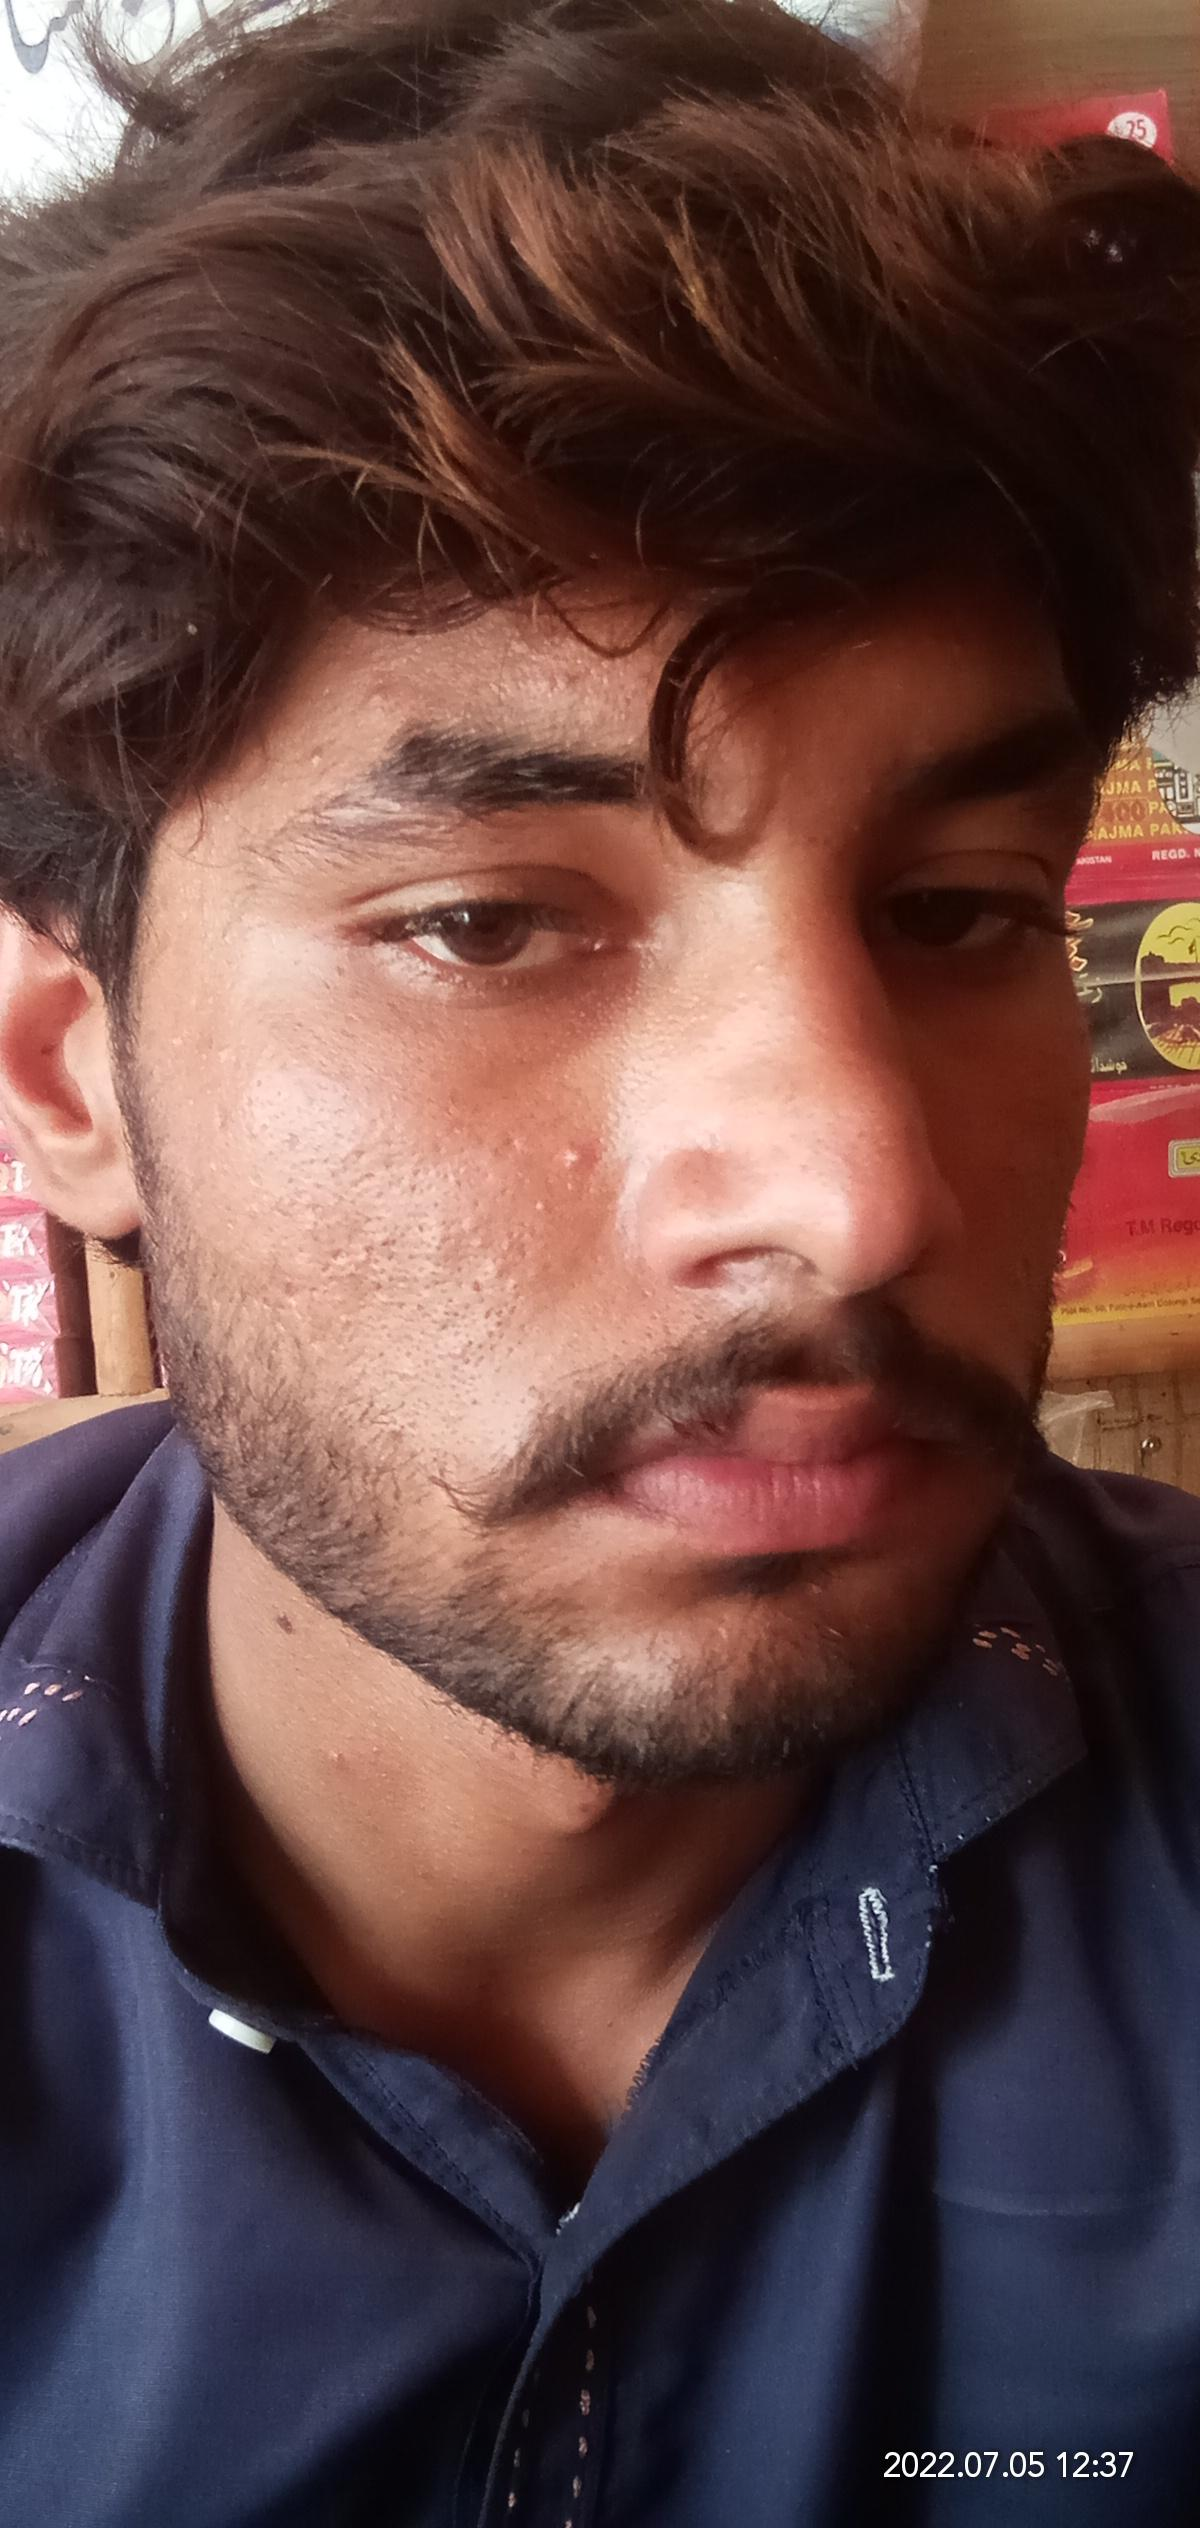Acne: (360, 677, 397, 719), (556, 1138, 597, 1174), (534, 669, 582, 698), (300, 742, 329, 774), (527, 1191, 553, 1217)
Englarged-Pores: (329, 1233, 529, 1417), (494, 630, 648, 746), (316, 1141, 494, 1206)
